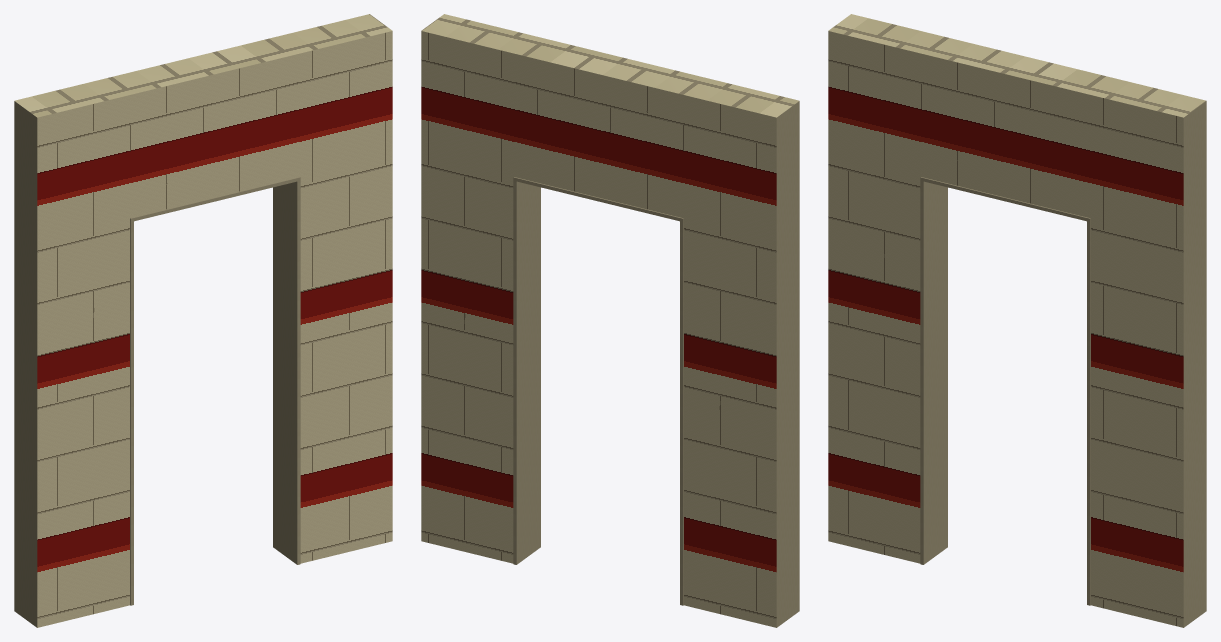
Rendered from wall door hole 2x v3 limewall texture-match.glb.
The picture shows the model from 3 angles, left to right: view 1: azimuth 30°, elevation 25°; view 2: azimuth 150°, elevation 25°; view 3: azimuth 330°, elevation 25°; orthographic projection.
Parts seen in each view (by area): view 1: doorhole_v3_limewall_mesh, doorhole_v3_limewall_reveal_mesh; view 2: doorhole_v3_limewall_mesh, doorhole_v3_limewall_reveal_mesh; view 3: doorhole_v3_limewall_mesh, doorhole_v3_limewall_reveal_mesh.
Part boxes in pixels (x1,y1,x2,y2): doorhole_v3_limewall_mesh: (14,14,392,627); doorhole_v3_limewall_reveal_mesh: (130,177,300,605); doorhole_v3_limewall_mesh: (421,14,799,627); doorhole_v3_limewall_reveal_mesh: (513,177,683,605); doorhole_v3_limewall_mesh: (828,14,1206,627); doorhole_v3_limewall_reveal_mesh: (920,177,1090,605).
Bounding box in the file's own units: 2 × 2.74 × 0.237.
Materials: 3 (3 with a texture image).
